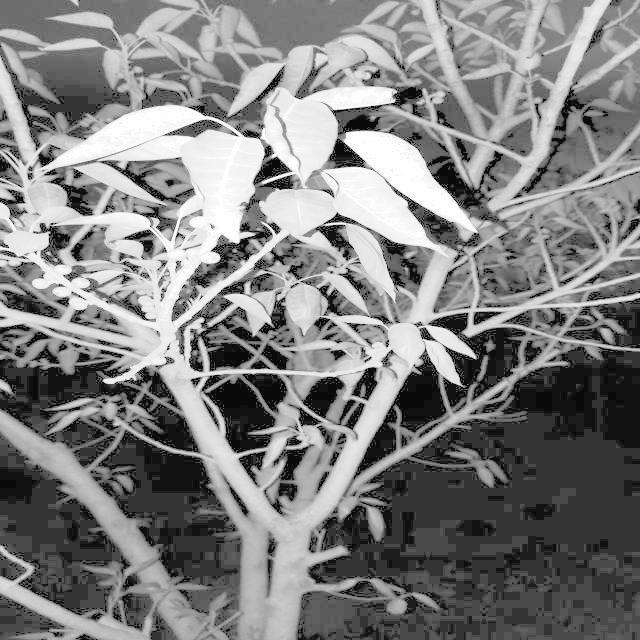Tree: (0, 0, 582, 640)
